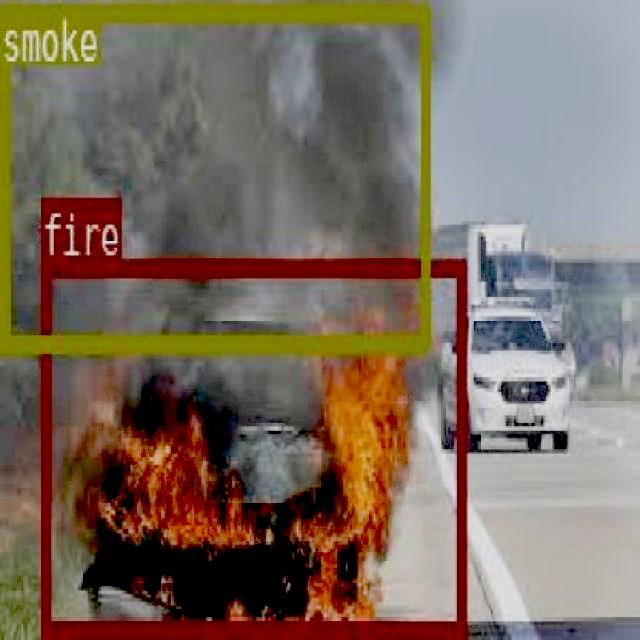fire: (40, 255, 463, 632)
smoke: (0, 4, 429, 347)
